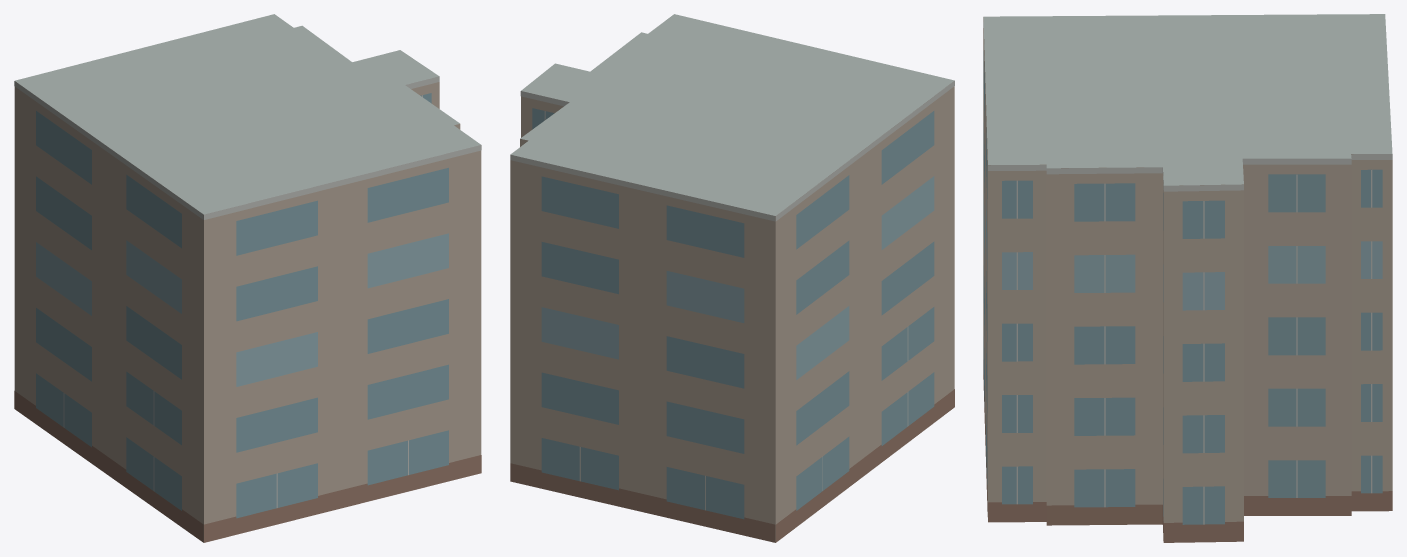
The model's file is survey-upis-32837759.glb.
The picture shows the model from 3 angles, left to right: view 1: azimuth 30°, elevation 25°; view 2: azimuth 150°, elevation 25°; view 3: azimuth 270°, elevation 25°; orthographic projection. The views are drawn at different scales.
Parts seen in each view (by area): view 1: survey-upis-32837759.tmp; view 2: survey-upis-32837759.tmp; view 3: survey-upis-32837759.tmp.
Part boxes in pixels (x1,y1,x2,y2): survey-upis-32837759.tmp: (14,14,481,542); survey-upis-32837759.tmp: (510,14,954,542); survey-upis-32837759.tmp: (983,14,1392,542).
Bounding box in the file's own units: 14.96 × 14.5 × 15.06.
